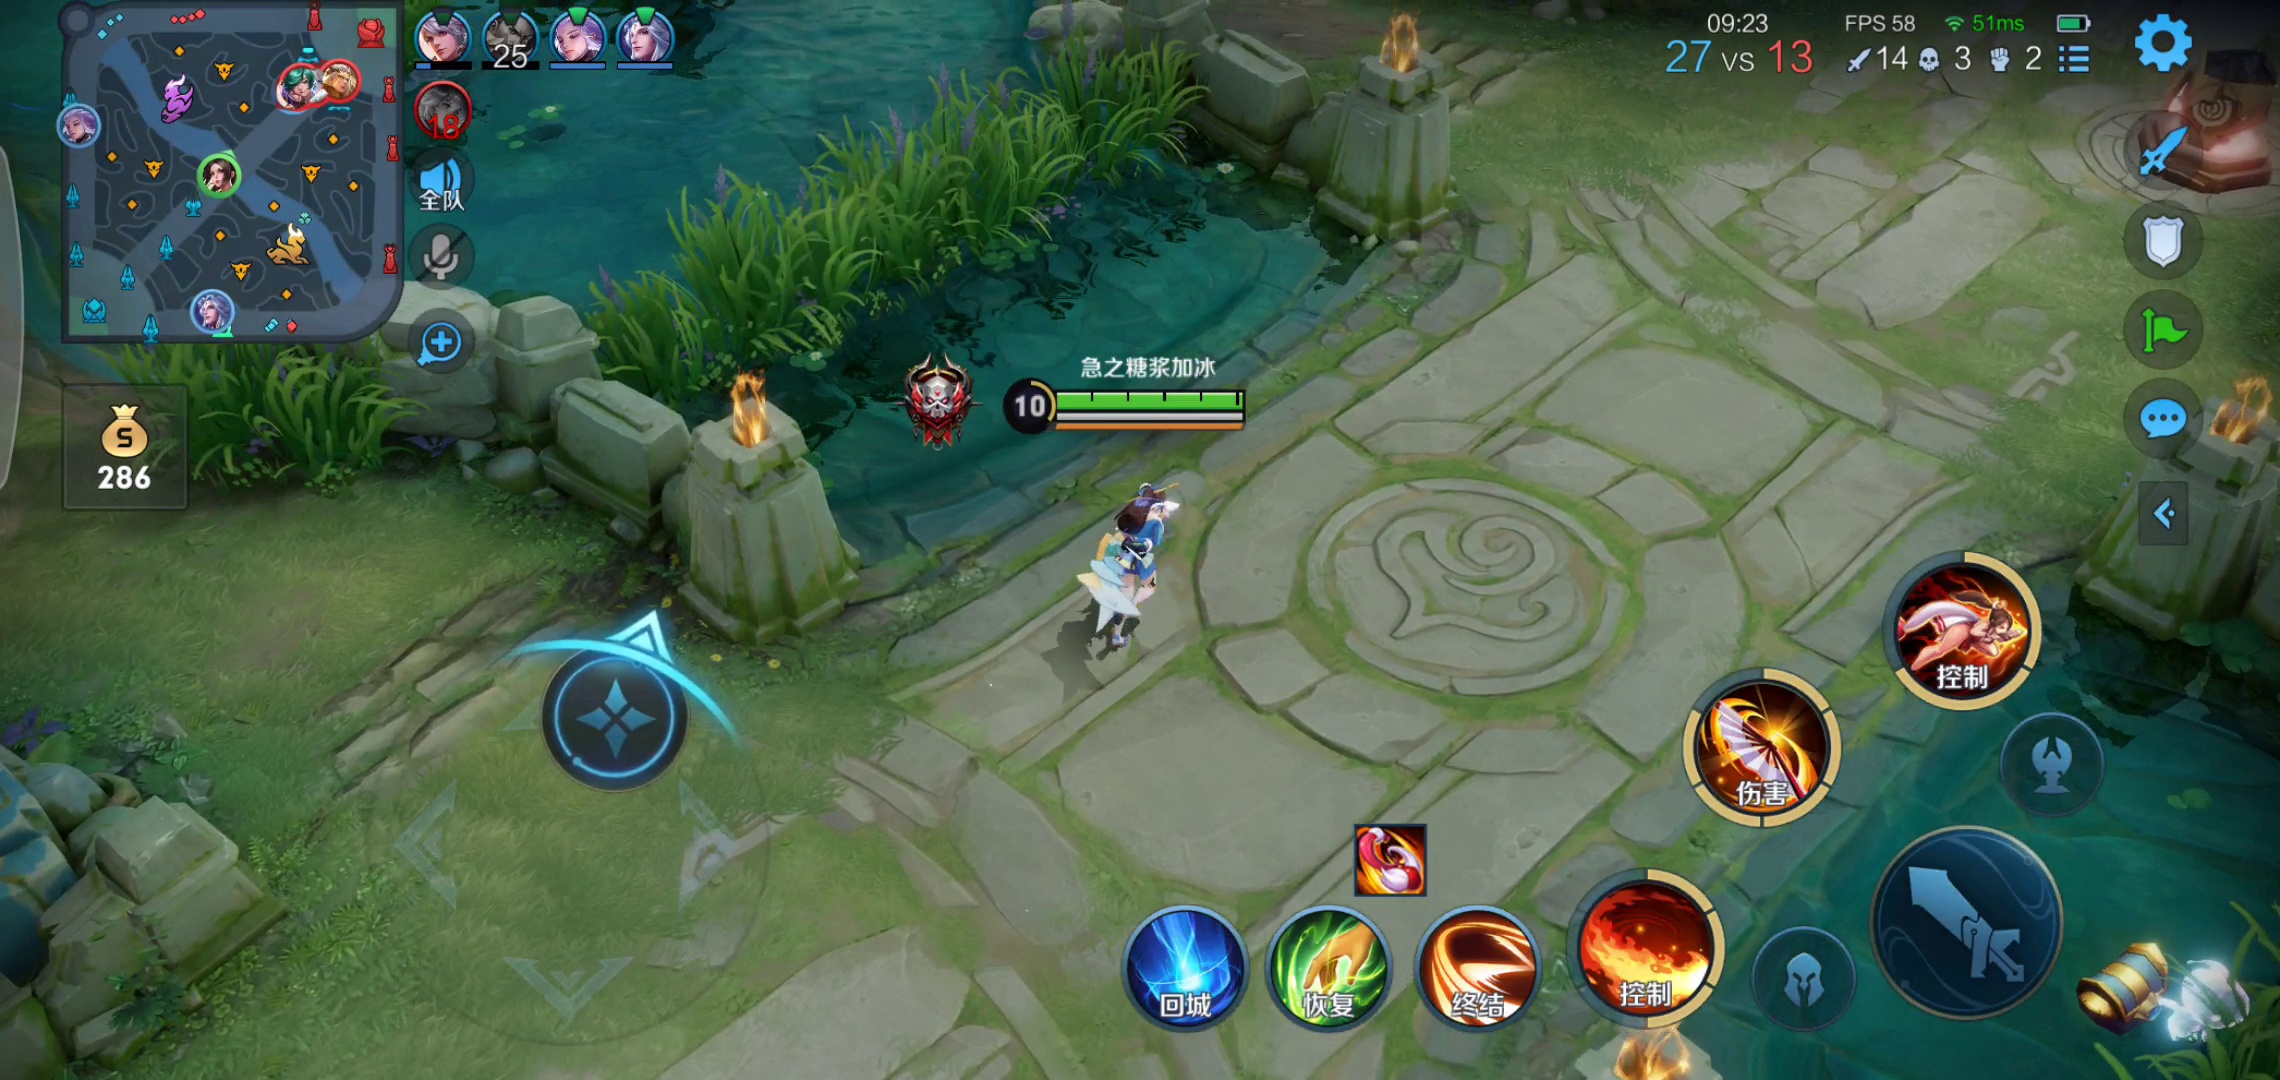grass: (555, 52, 1198, 379), (92, 340, 404, 483)
hero: (1067, 475, 1181, 658)
tower: (2135, 17, 2280, 185)
